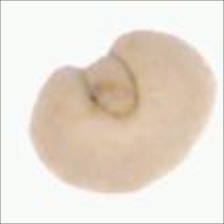L5: (76, 48, 142, 122)
L6: (29, 29, 216, 195)
